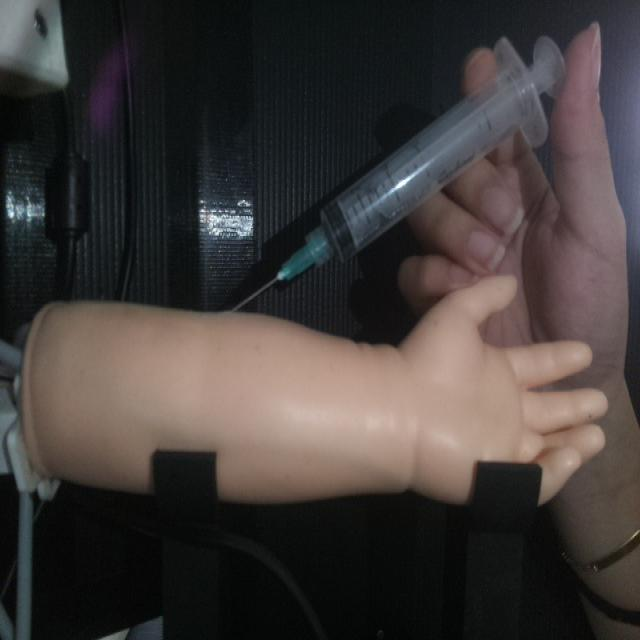Outside: (220, 33, 568, 316)
